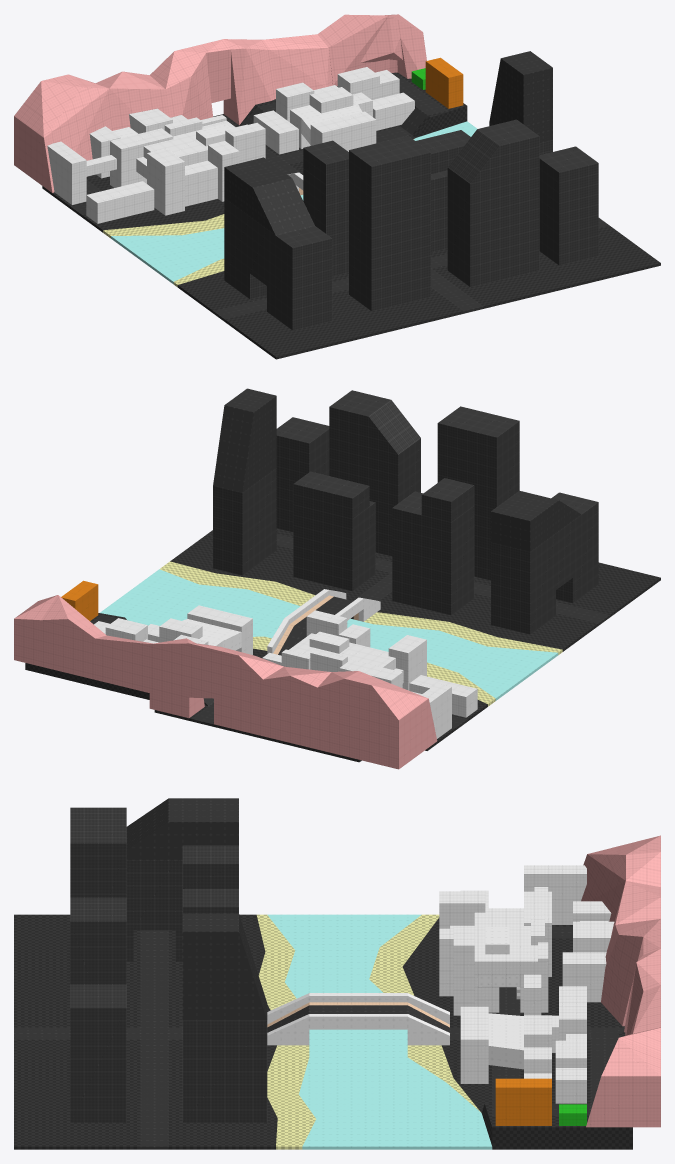
The model's file is city.obj.
The picture shows the model from 3 angles, top to bottom: view 1: azimuth 30°, elevation 25°; view 2: azimuth 150°, elevation 25°; view 3: azimuth 270°, elevation 25°; orthographic projection. The views are drawn at different scales.
Visible parts, largest first — view 1: entity0_brush103, entity0_brush16, entity0_brush64, entity0_brush23, entity0_brush18, entity0_brush28, entity0_brush24, entity0_brush21, entity0_brush19, entity0_brush66, entity0_brush67, entity0_brush85 (+40 smaller); view 2: entity0_brush103, entity0_brush64, entity0_brush15, entity0_brush16, entity0_brush14, entity0_brush27, entity0_brush17, entity0_brush19, entity0_brush66, entity0_brush65, entity0_brush18, entity0_brush83 (+40 smaller); view 3: entity0_brush24, entity0_brush17, entity0_brush13, entity0_brush19, entity0_brush18, entity0_brush23, entity0_brush10, entity0_brush21, entity0_brush16, entity0_brush103, entity0_brush80, entity0_brush115 (+62 smaller).
Part boxes in pixels (x1,y1,x2,y2): entity0_brush103: [447, 119, 539, 287]; entity0_brush16: [349, 136, 430, 311]; entity0_brush64: [14, 74, 114, 192]; entity0_brush23: [224, 287, 463, 359]; entity0_brush18: [539, 146, 598, 265]; entity0_brush28: [267, 226, 332, 330]; entity0_brush24: [432, 225, 660, 308]; entity0_brush21: [224, 157, 314, 235]; entity0_brush19: [489, 51, 552, 142]; entity0_brush66: [150, 45, 212, 119]; entity0_brush67: [223, 39, 275, 125]; entity0_brush85: [263, 34, 332, 92]; entity0_brush103: [329, 390, 420, 556]; entity0_brush64: [317, 671, 437, 769]; entity0_brush15: [392, 491, 474, 615]; entity0_brush16: [437, 406, 519, 580]; entity0_brush14: [293, 501, 375, 591]; entity0_brush27: [491, 533, 555, 634]; entity0_brush17: [213, 468, 276, 575]; entity0_brush19: [213, 388, 276, 492]; entity0_brush66: [214, 647, 283, 736]; entity0_brush65: [263, 666, 331, 749]; entity0_brush18: [276, 417, 329, 532]; entity0_brush83: [41, 595, 106, 679]; entity0_brush24: [14, 1039, 140, 1149]; entity0_brush17: [182, 1020, 267, 1122]; entity0_brush13: [299, 1057, 480, 1118]; entity0_brush19: [182, 913, 267, 1020]; entity0_brush18: [70, 984, 126, 1122]; entity0_brush23: [14, 914, 140, 1027]; entity0_brush10: [302, 1113, 492, 1149]; entity0_brush21: [126, 798, 238, 860]; entity0_brush16: [70, 807, 126, 897]; entity0_brush103: [70, 897, 126, 984]; entity0_brush80: [586, 1048, 660, 1127]; entity0_brush115: [267, 914, 421, 950].
Size of the model in its own units: 4992 by 1952 by 5888.
